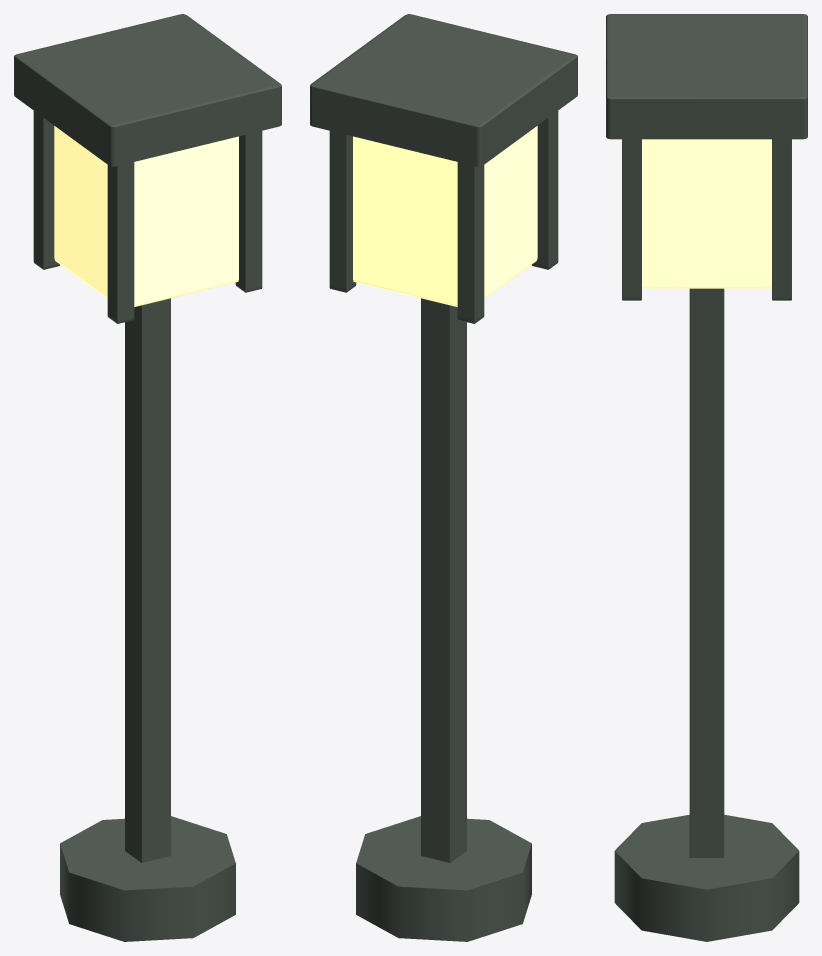
File: lamp-0.glb
The picture shows the model from 3 angles, left to right: view 1: azimuth 30°, elevation 25°; view 2: azimuth 150°, elevation 25°; view 3: azimuth 270°, elevation 25°; orthographic projection.
Visible parts, largest first — view 1: lamp-0-0; view 2: lamp-0-0; view 3: lamp-0-0.
Part boxes in pixels (bbox=[...]): lamp-0-0: bbox=[14, 14, 281, 941]; lamp-0-0: bbox=[310, 14, 577, 941]; lamp-0-0: bbox=[606, 14, 807, 941].
Bounding box in the file's own units: 0.35 × 1.62 × 0.35.
